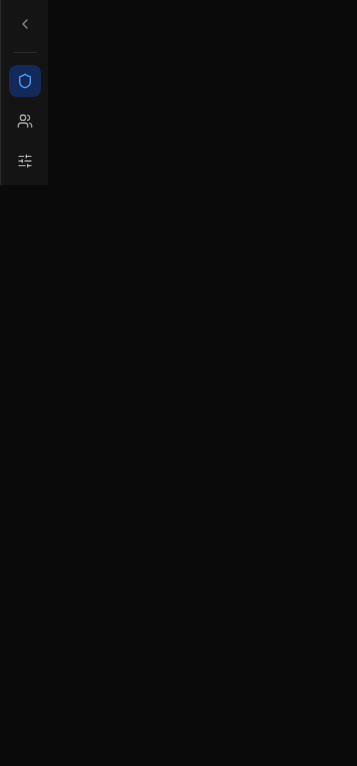
Test: RightPanel Tab & Sub-components Architecture › renders RightPanel collapsed by default and opens tabs correctly
Expected: the button named "squad" is shown, [8,105,40,137]
Expected: the button named "properties" is shown, [8,145,40,177]
// Clicking formation rail button expands panel and shows content
Step 1. Click the button named "formation" → (24, 81), box [8,65,40,97]
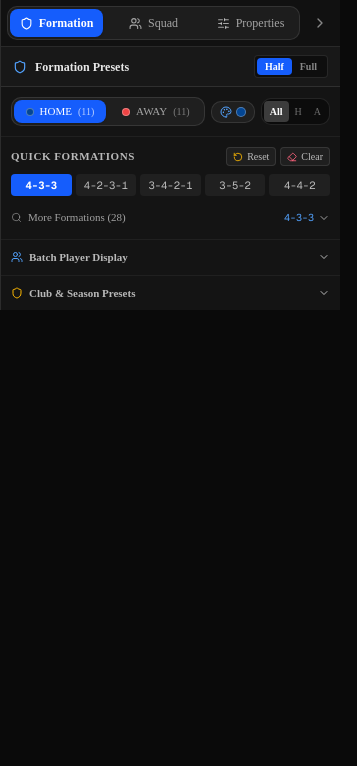
Expected: the text "Formation Presets" is shown, [35,59,129,75]
// Switch to Squad tab
Step 2. Click the button "Squad" → (154, 23), box [107,9,200,37]
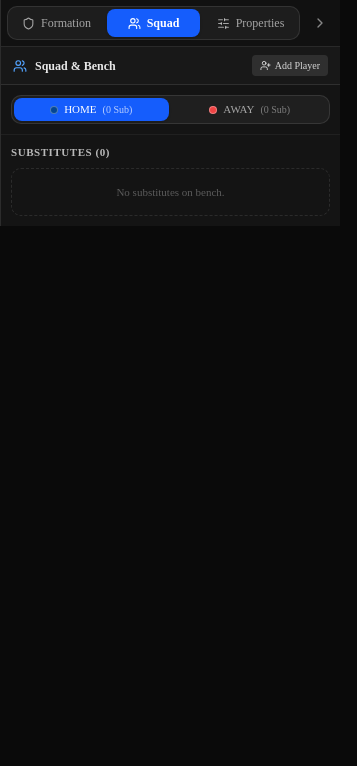
Expected: the text "Squad & Bench" is shown, [35,58,116,74]
// Switch to Properties tab
Step 3. Click the button "Properties" → (250, 23), box [204,9,297,37]
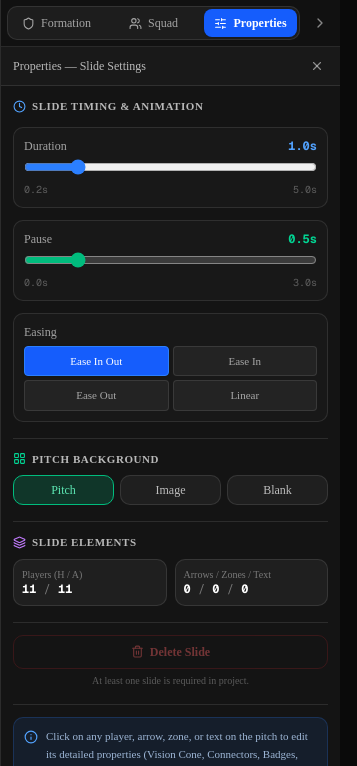
Expected: the text "Properties — Slide Settings" is shown, [13,58,146,74]
// Collapse panel with collapse button
Step 4. Click the button named "collapse panel" → (320, 23), box [306,9,334,37]
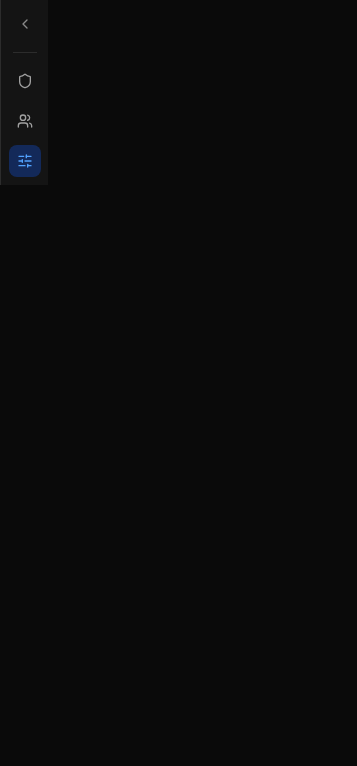
Expected: the text "Properties — Slide Settings" is gone
